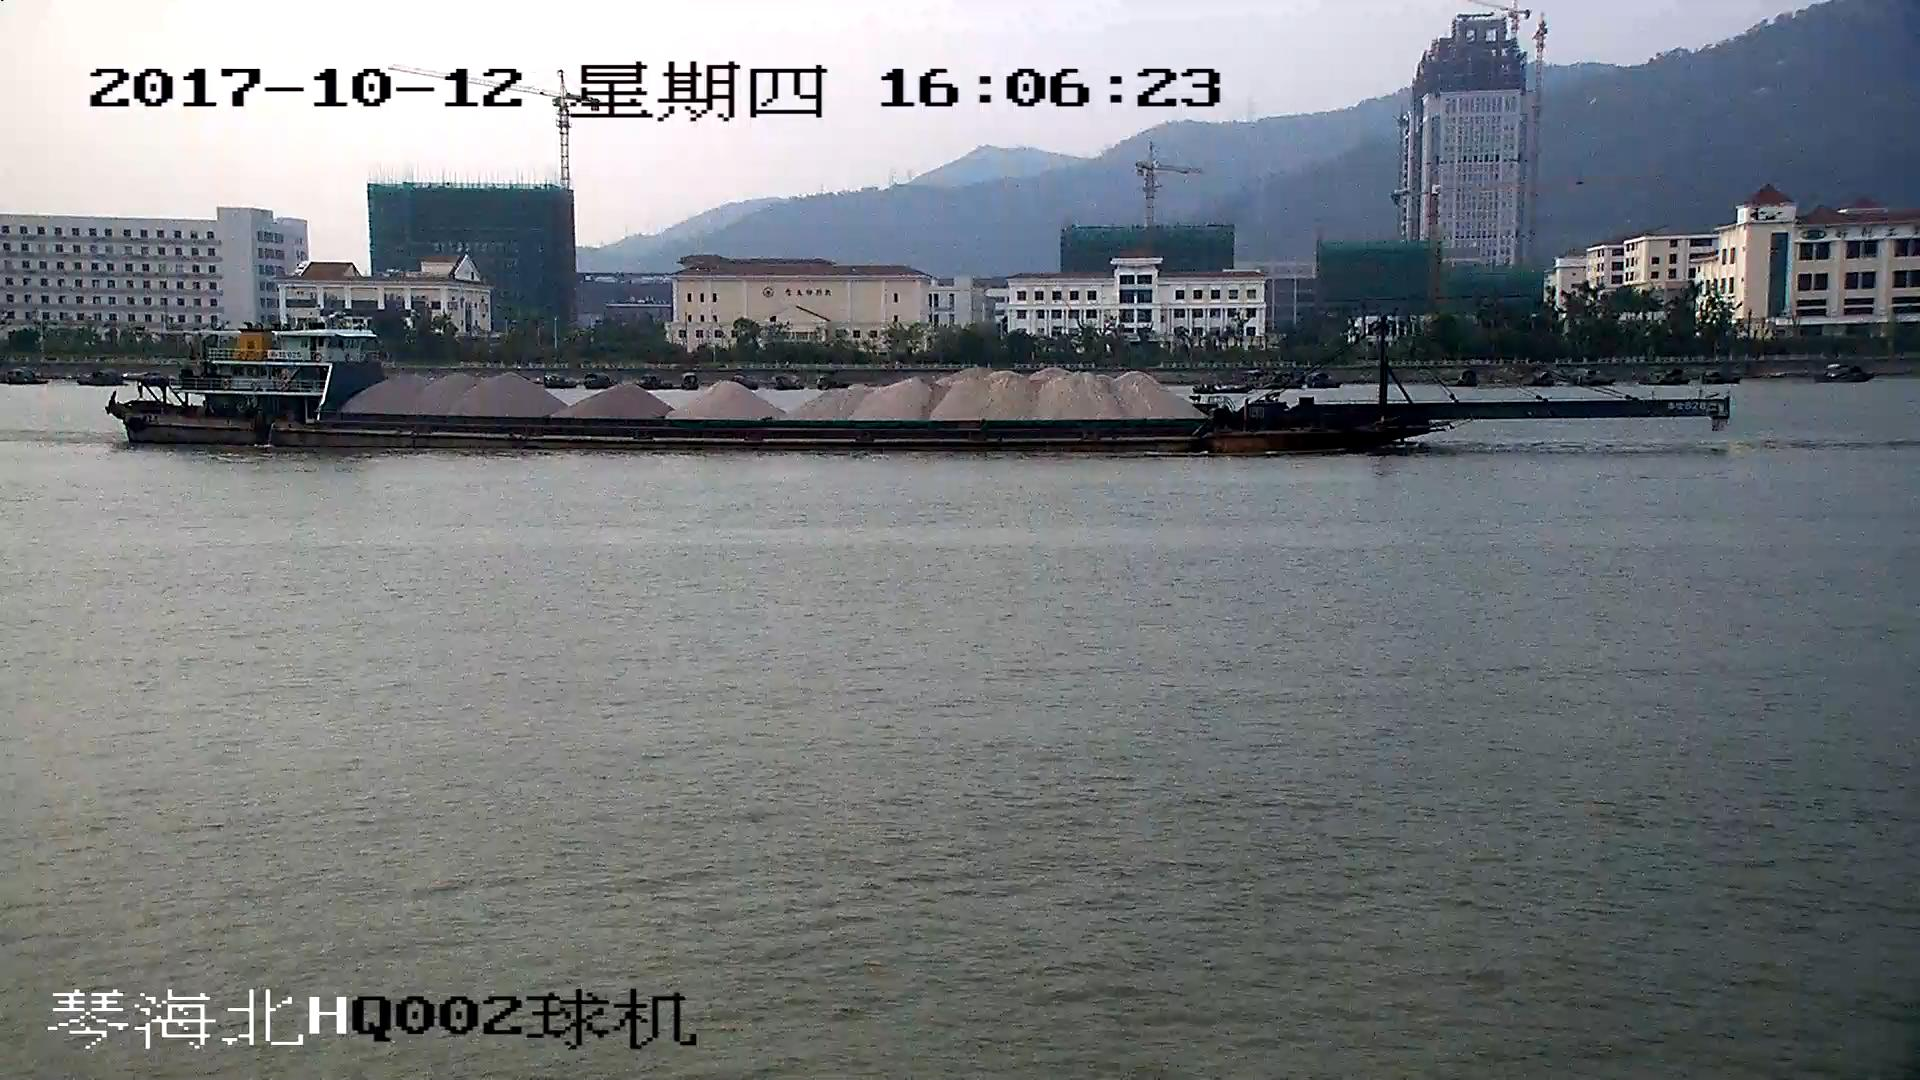ore carrier: (110, 317, 1725, 450)
